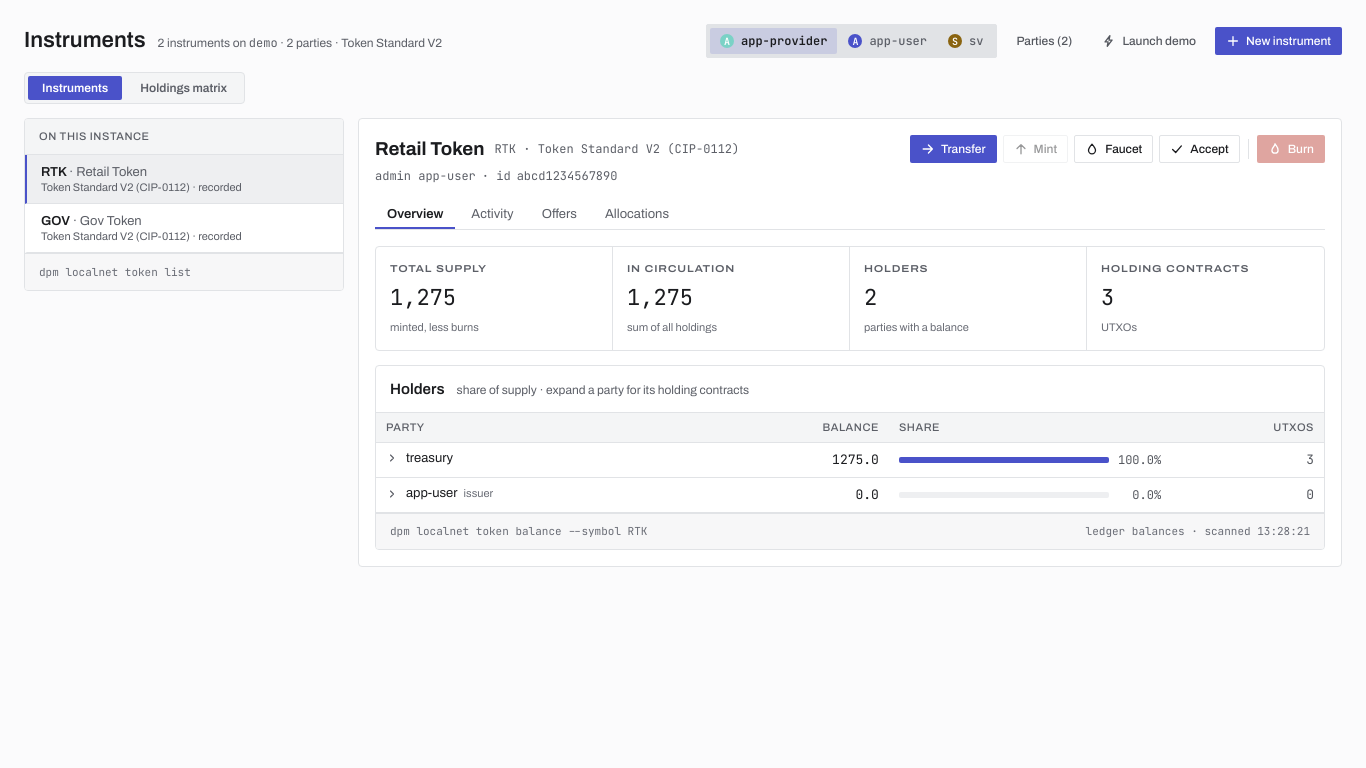
it: TokensScreen › filters the matrix to one token's column via the chips
This screenshot has width=1366, height=768.
Click the button "Holdings matrix" at (184, 88), box [126,76,241,100]
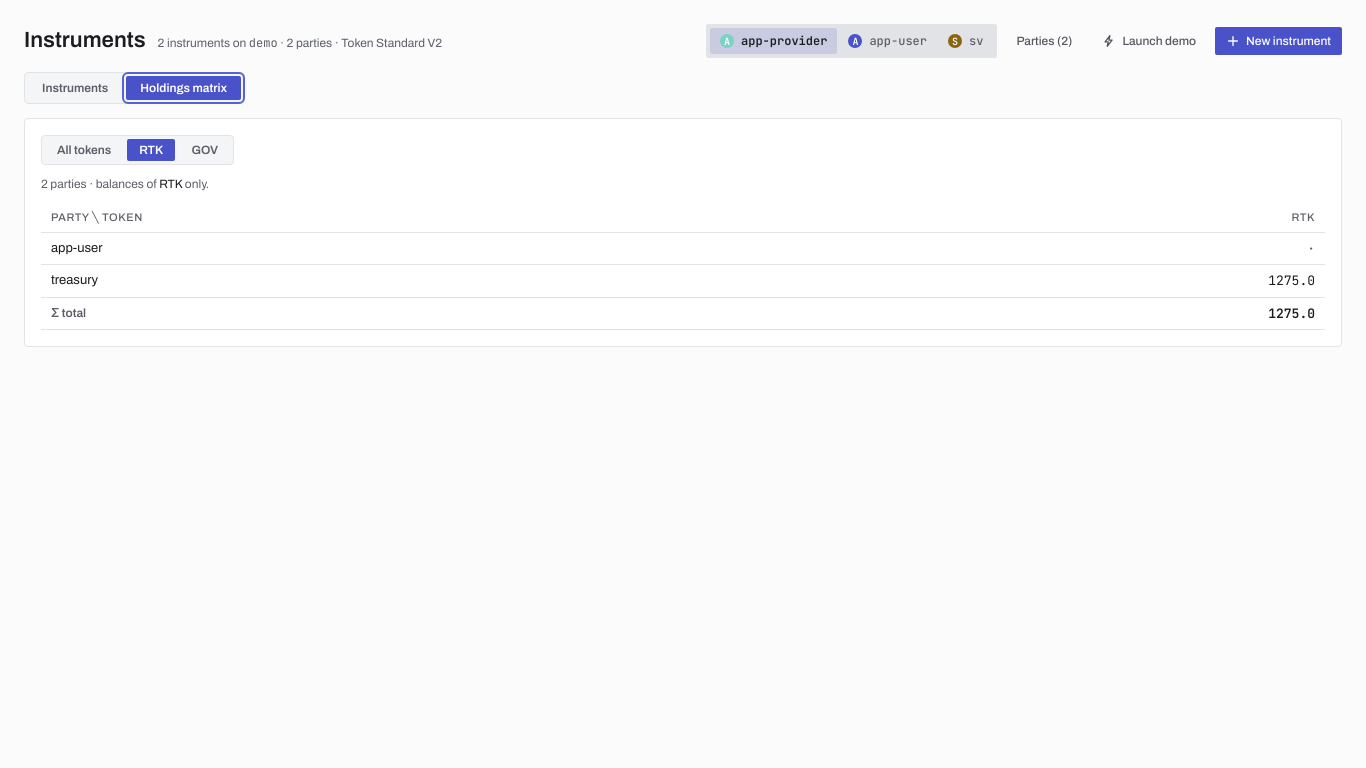
Check: the button "All tokens" is shown, box [45,139,123,161]
// filter to GOV → its cell shows, RTK's column drops out
Click the button "GOV" at (205, 150), box [179,139,230,161]
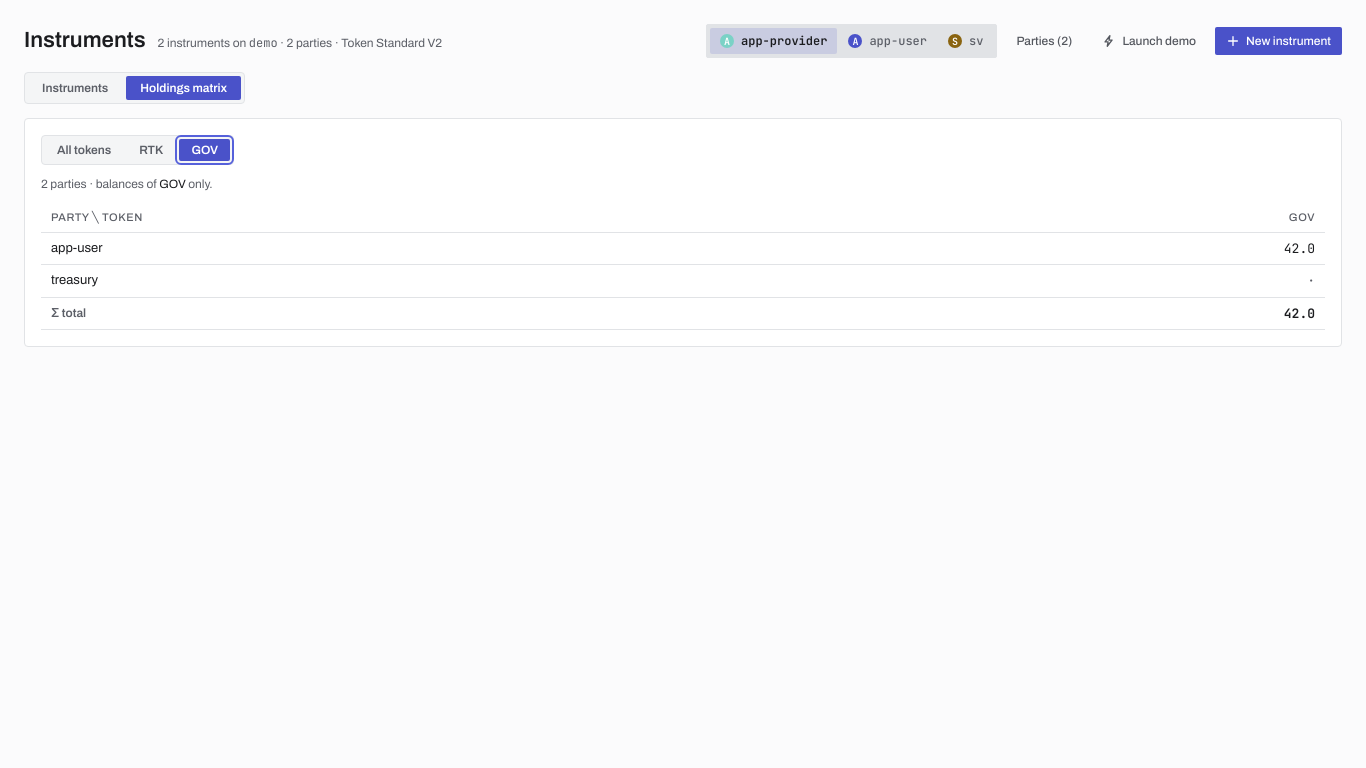
Check: the 1st text "42.0" is shown, box [922,232,1325,264]
Check: the text "1275.0" is gone
Click the button "All tokens" at (84, 150), box [45,139,123,161]
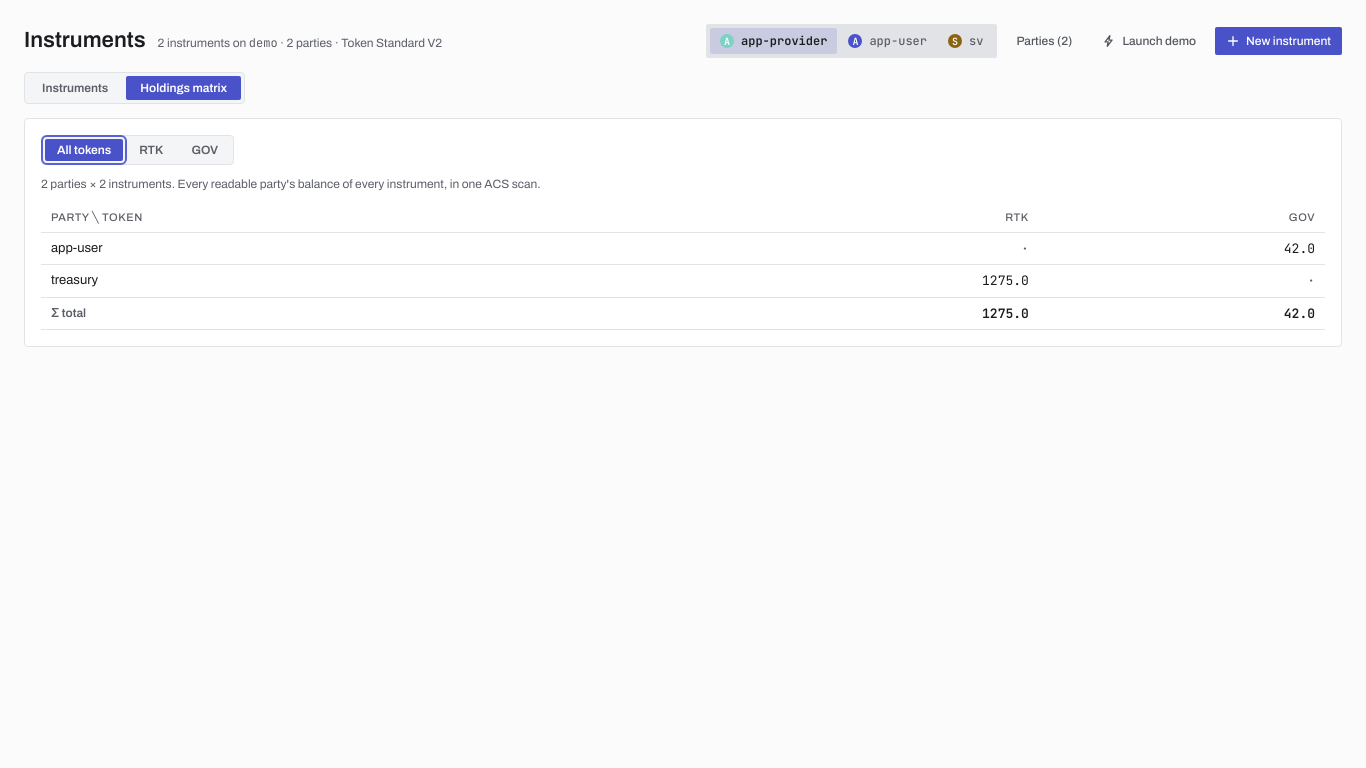
Check: the 1st text "42.0" is shown, box [1039,232,1325,264]
Check: the text "1275.0" in the row of "treasury" is shown, box [982,272,1029,289]
